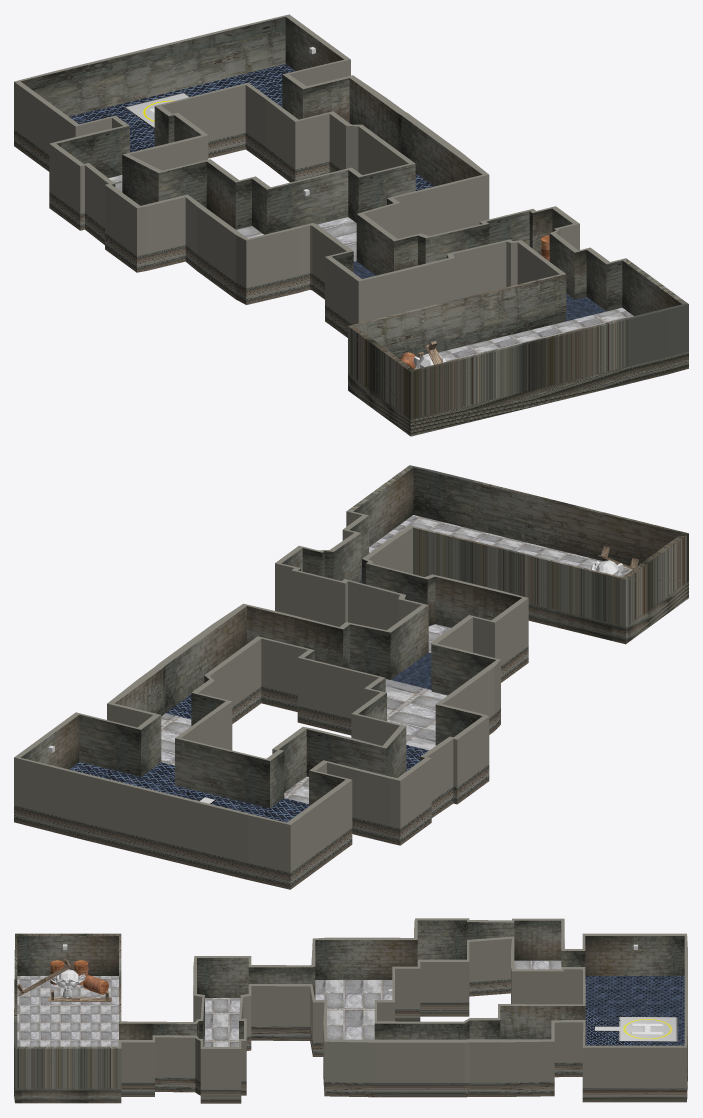
File: nivel .fbx
3 views of the same model, one above another, from view 1: azimuth 30°, elevation 25°; view 2: azimuth 150°, elevation 25°; view 3: azimuth 270°, elevation 25° (orthographic). The views are drawn at different scales.
Parts seen in each view (by area): view 1: Cube, Helipad.svg; view 2: Cube; view 3: Cube, Helipad.svg, Suzanne, Cylinder.002, Box001.001, Box001.
Boxes of the visible parts, box(x1,y1,x2,y2) form: Cube: box(14, 14, 688, 436); Helipad.svg: box(124, 92, 189, 128); Cube: box(14, 465, 688, 889); Cube: box(14, 918, 687, 1103); Helipad.svg: box(595, 1016, 677, 1041); Suzanne: box(50, 969, 85, 997); Cylinder.002: box(83, 975, 108, 994); Box001.001: box(48, 990, 111, 1001); Box001: box(17, 958, 72, 995).
Bounding box in the file's own units: 4327 × 844 × 9442.
Materials: 12 (12 with a texture image).
